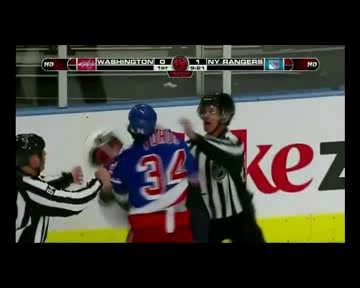normal: (107, 82, 267, 242)
